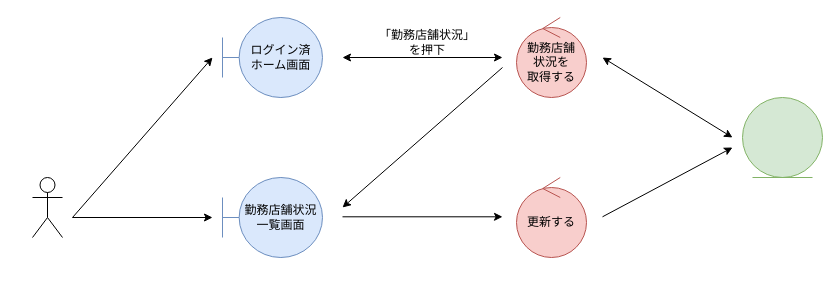
Image size: 840x291. Some labels were removed from this diagram. Here are the shapes that lost their labels. From the top down, the centre of each, then its label:
At [782,137]: "勤務店舗状況".
At [47,207]: "正規社員 非正規社員".
